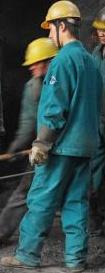boots: (0, 255, 37, 268), (0, 222, 12, 234)
gloves: (28, 141, 51, 165), (5, 140, 21, 164)
hard-hat: (21, 37, 60, 67)
ppe-suit: (0, 56, 43, 217)
